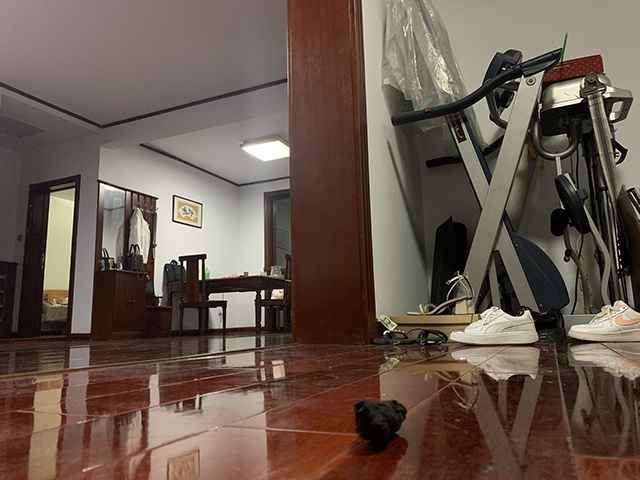cabinet: (90, 268, 175, 342)
feces: (352, 398, 409, 446)
stool: (178, 254, 228, 339), (254, 254, 292, 336)
table: (166, 274, 293, 338)
